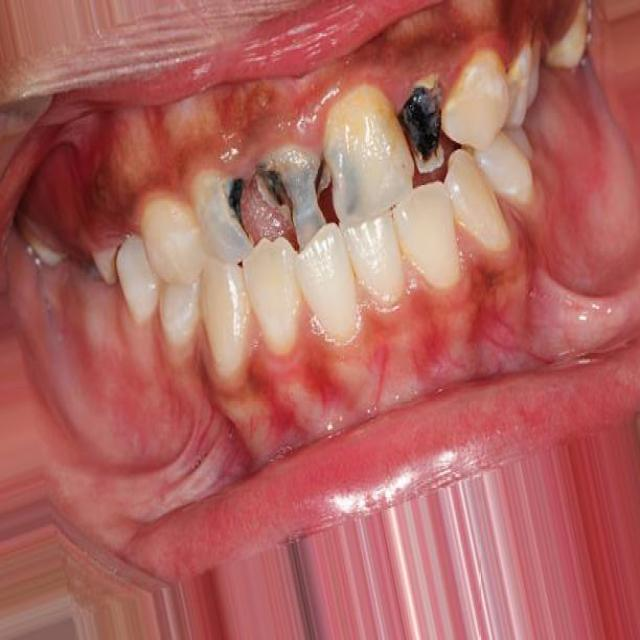caries: (258, 140, 336, 249), (393, 68, 449, 182), (210, 166, 255, 258)
